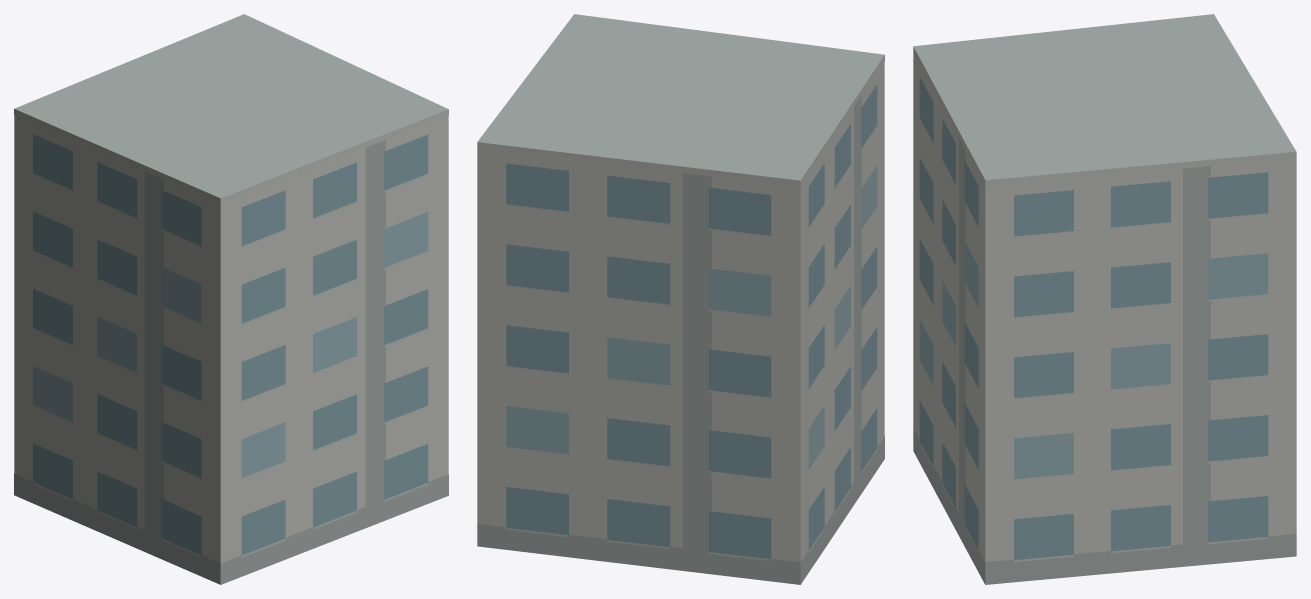
Rendered from survey-upis-32817960.glb.
3 views of the same model, side by side, from view 1: azimuth 30°, elevation 25°; view 2: azimuth 150°, elevation 25°; view 3: azimuth 270°, elevation 25° (orthographic). The views are drawn at different scales.
Parts seen in each view (by area): view 1: survey-upis-32817960.tmp; view 2: survey-upis-32817960.tmp; view 3: survey-upis-32817960.tmp.
Boxes of the visible parts, left/top/right/bottom form: survey-upis-32817960.tmp: left=14, top=14, right=448, bottom=584; survey-upis-32817960.tmp: left=477, top=14, right=884, bottom=584; survey-upis-32817960.tmp: left=913, top=14, right=1296, bottom=584.
Bounding box in the file's own units: 13.45 × 15.25 × 13.1.
